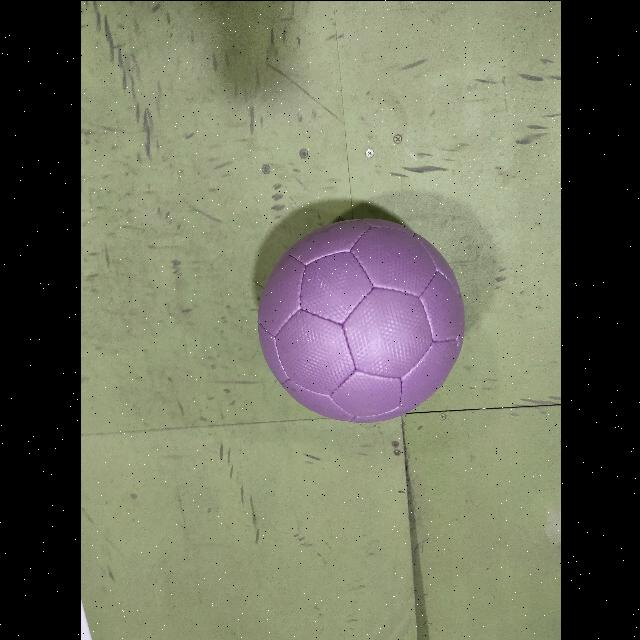P: (257, 219, 463, 421)
